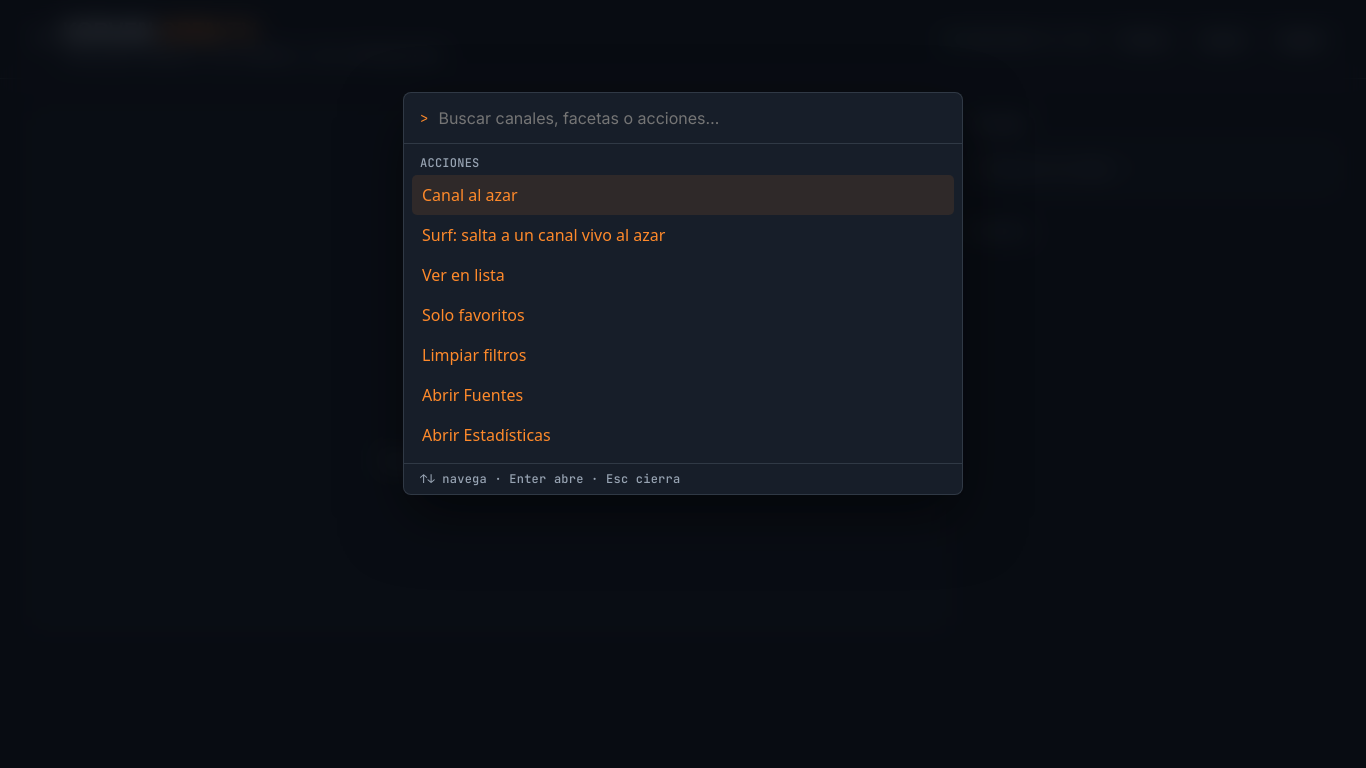
Scenario: App — paleta de comandos ⌘K › elegir «Abrir Fuentes» desde la paleta navega a la vista de gestión de fuentes real de App
Check: the button "Ver todo" is shown, box x1=962 y1=111 x2=1034 y2=136
Click the option "Abrir Fuentes".
click(473, 394)  # box x1=422 y1=384 x2=523 y2=406
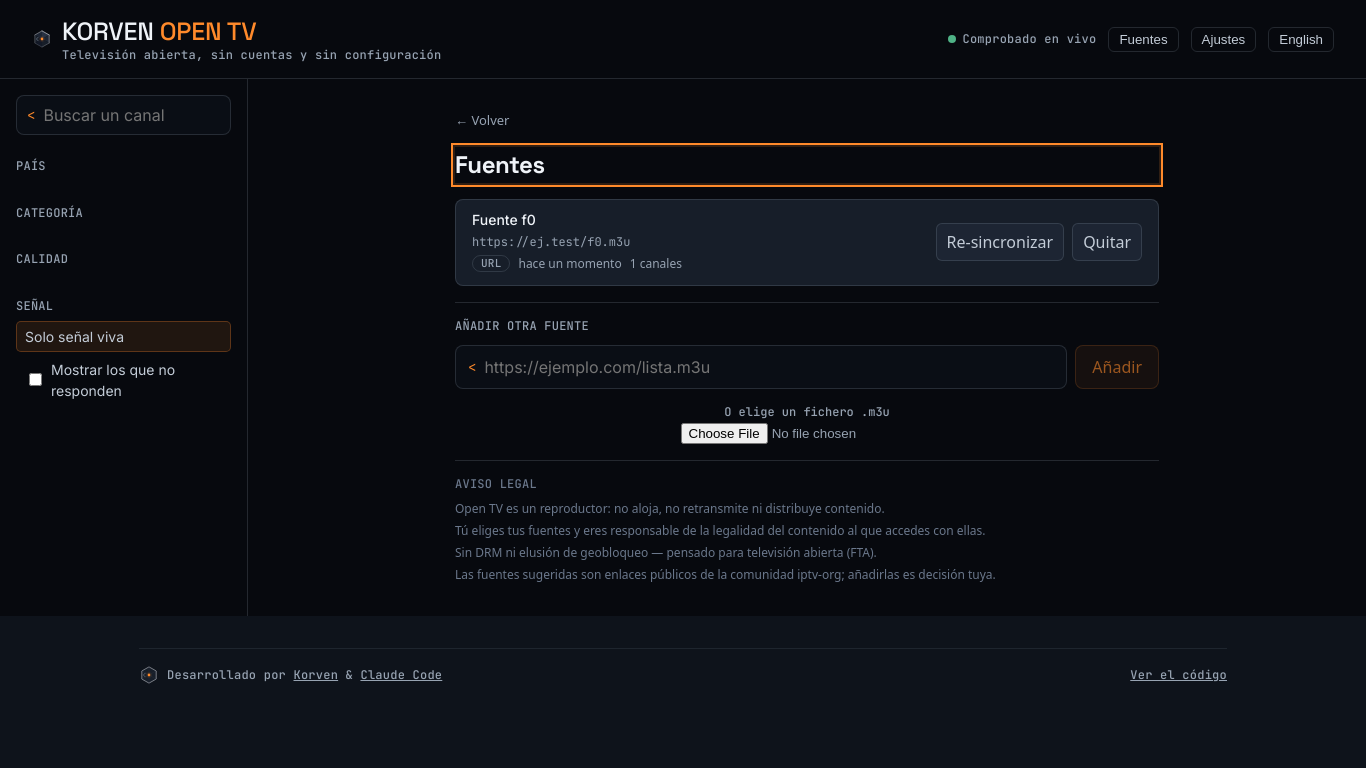
Check: the heading "Fuentes" is shown, box x1=455 y1=147 x2=1159 y2=183
